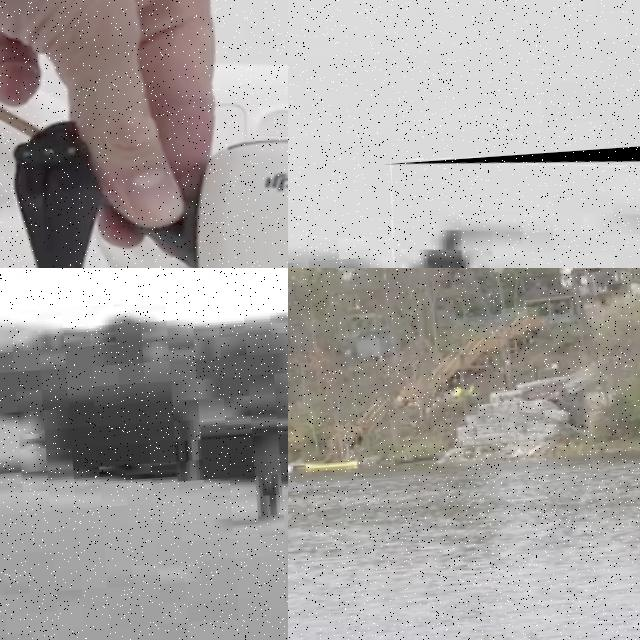drone: (0, 0, 288, 268), (382, 135, 640, 268)
